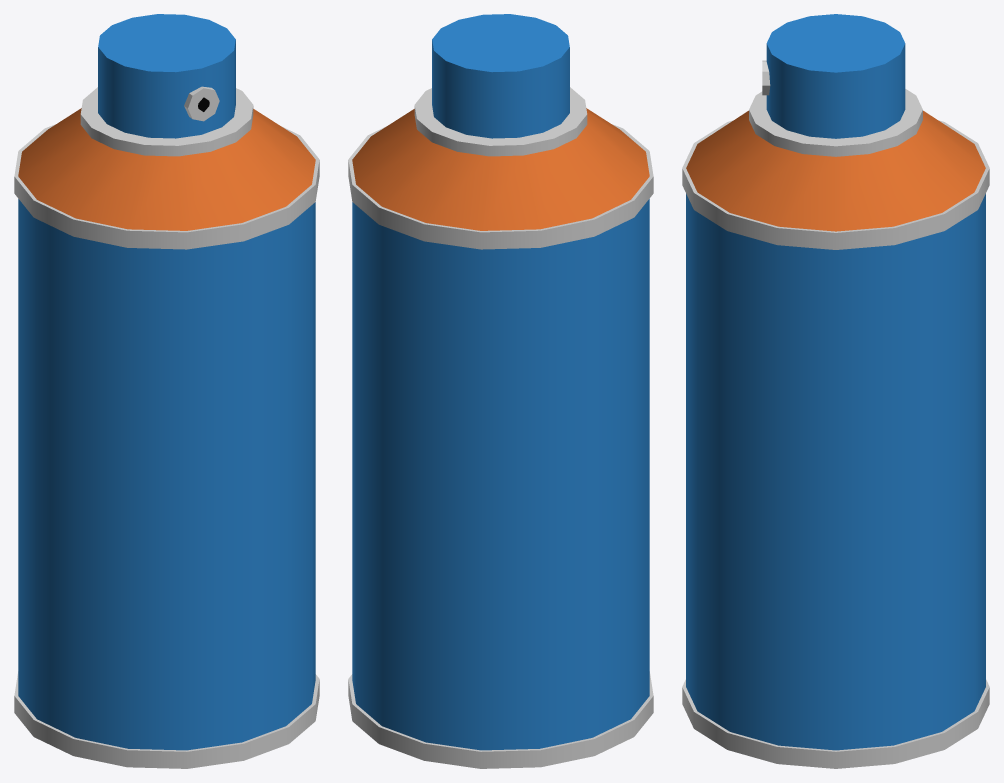
The model's file is SprayPaint2.fbx.
3 renders of one model, left to right at view 1: azimuth 30°, elevation 25°; view 2: azimuth 150°, elevation 25°; view 3: azimuth 270°, elevation 25°, orthographic.
Parts seen in each view (by area): view 1: SprayPaint2; view 2: SprayPaint2; view 3: SprayPaint2.
Part boxes in pixels (left/top/right/bottom): SprayPaint2: left=14, top=14, right=319, bottom=768; SprayPaint2: left=348, top=14, right=653, bottom=768; SprayPaint2: left=682, top=14, right=989, bottom=768.
Size of the model in its own units: 1.04 by 2.47 by 1.04.
